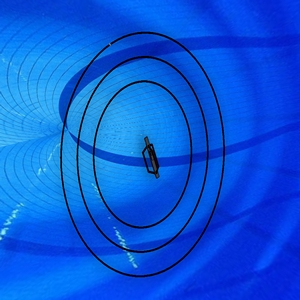circle: (58, 27, 235, 286)
submarine: (138, 137, 164, 183)
